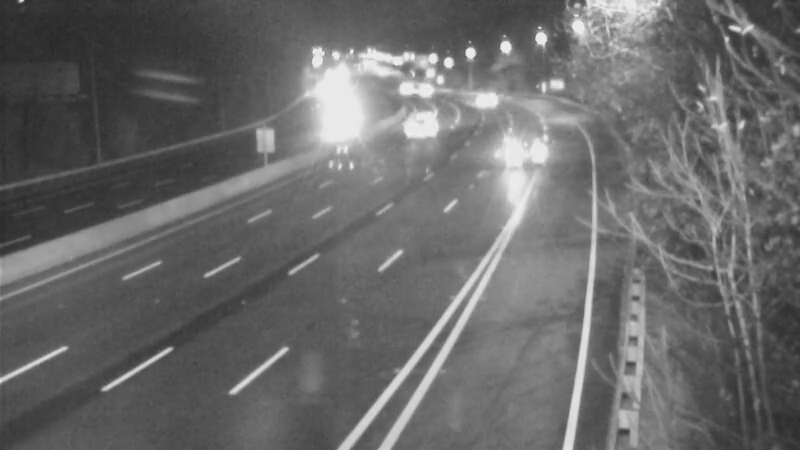vehicle: (382, 65, 432, 115), (401, 67, 451, 117), (454, 76, 504, 126), (396, 98, 446, 148), (501, 124, 551, 174)
